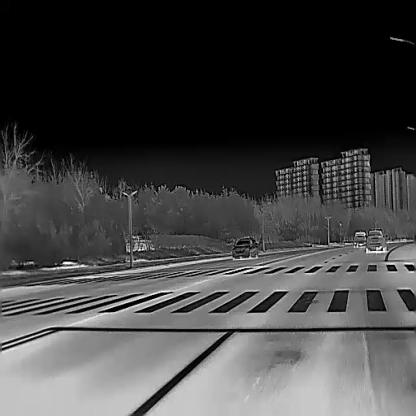car: (232, 236, 258, 260), (365, 227, 388, 252), (352, 231, 367, 246)
